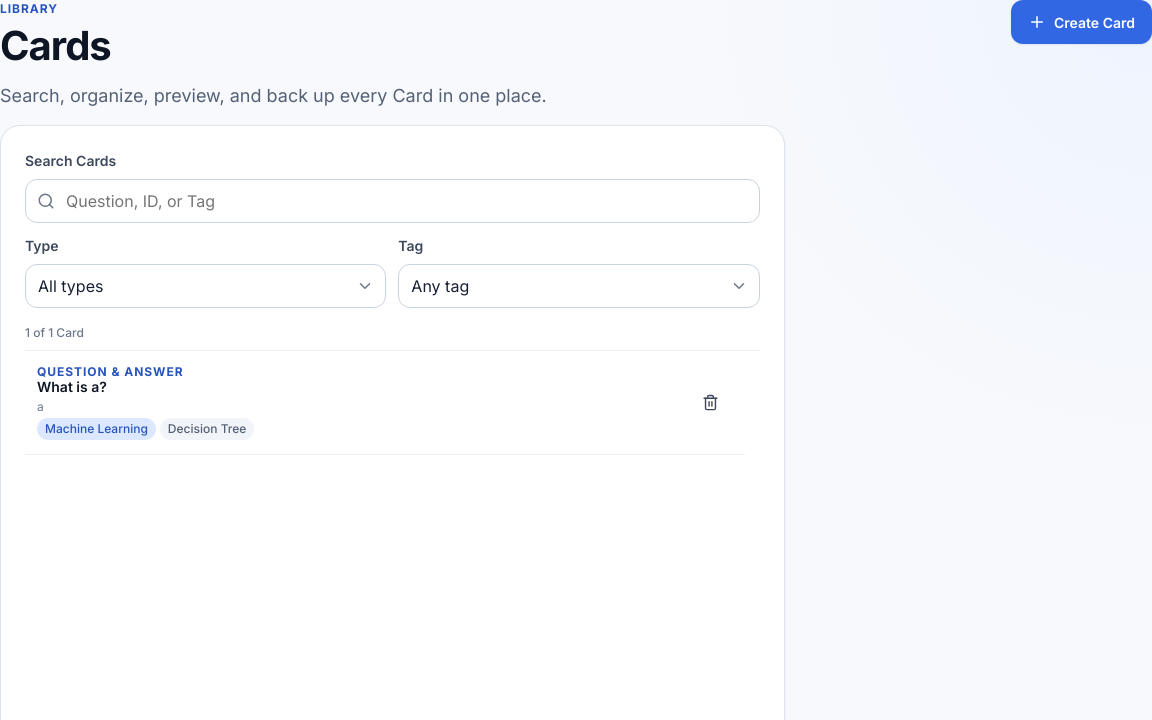
it: a qa preview shows the type name, question, answer ["An answer."], tags, ID and version, Delete, Edit for the editable types, Add to current Session and New Ses
Click the button that starts with "Question & answer".
click(110, 371)  # box [37,363,677,442]
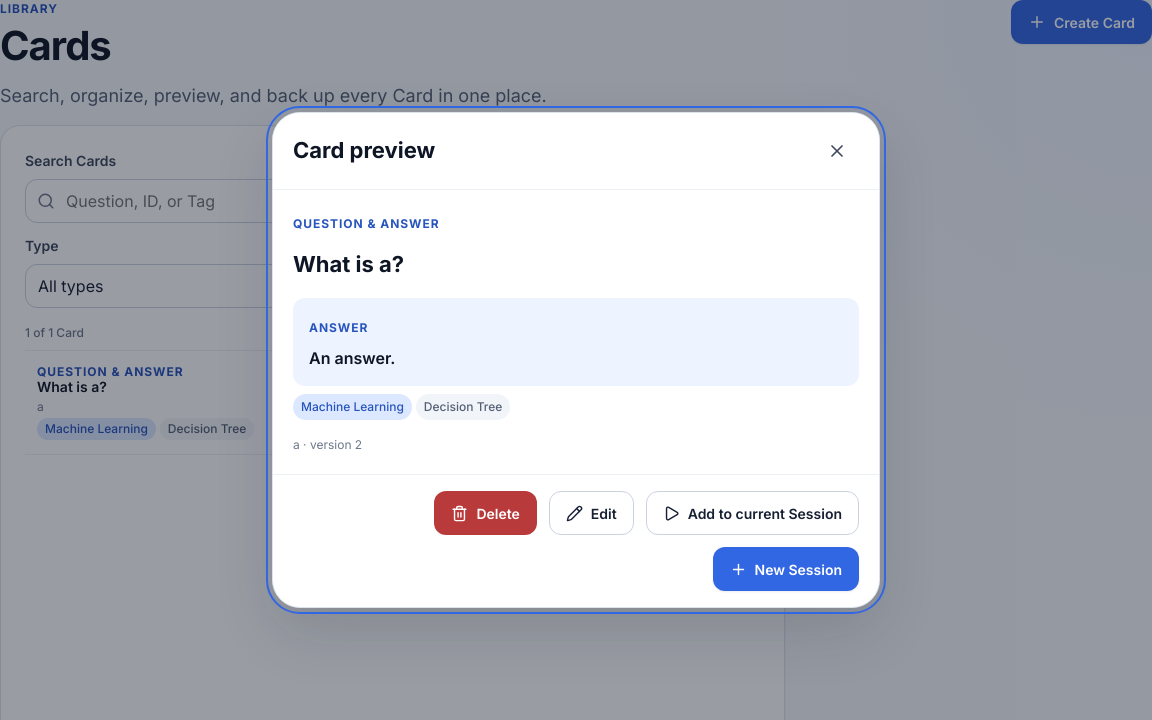
Expected: the heading "What is a?" is shown, [293,251,404,277]
